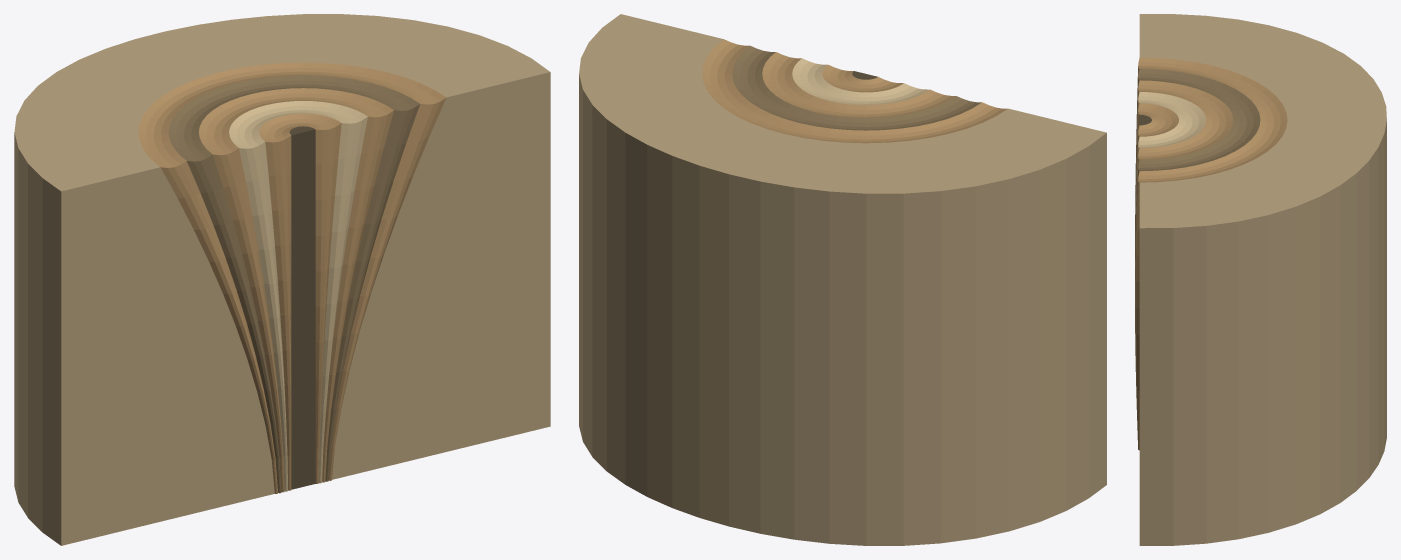
Rendered from rosselia-concentrically-filled-burrow.glb.
The picture shows the model from 3 angles, left to right: view 1: azimuth 30°, elevation 25°; view 2: azimuth 150°, elevation 25°; view 3: azimuth 270°, elevation 25°; orthographic projection. The views are drawn at different scales.
Visible parts, largest first — view 1: volumetric-concentric-funnel-exposed-ribs; view 2: volumetric-concentric-funnel-exposed-ribs; view 3: volumetric-concentric-funnel-exposed-ribs.
Boxes of the visible parts, x1,y1,x2,y2 form: volumetric-concentric-funnel-exposed-ribs: (14, 14, 550, 545); volumetric-concentric-funnel-exposed-ribs: (579, 14, 1106, 545); volumetric-concentric-funnel-exposed-ribs: (1135, 14, 1386, 545).
Size of the model in its own units: 0.065 by 0.045 by 0.0323.
